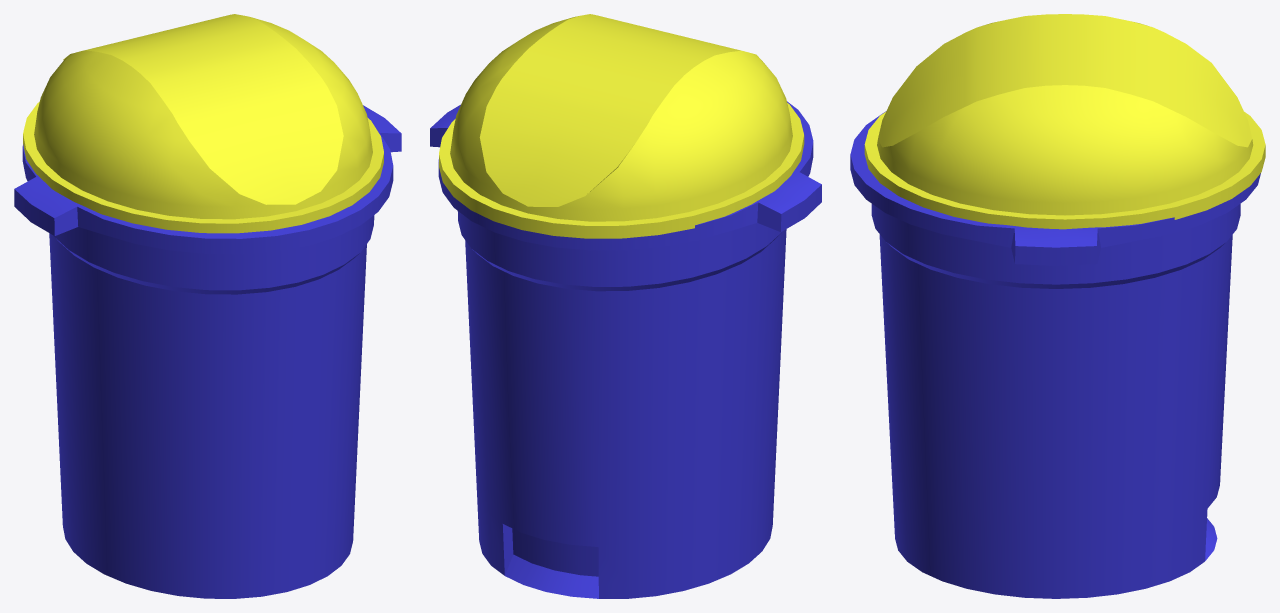
Rendered from Props_Garbage_02.fbx.
The picture shows the model from 3 angles, left to right: view 1: azimuth 30°, elevation 25°; view 2: azimuth 150°, elevation 25°; view 3: azimuth 270°, elevation 25°; orthographic projection.
Parts seen in each view (by area): view 1: Props_Garbage_02; view 2: Props_Garbage_02; view 3: Props_Garbage_02.
Part boxes in pixels (x1,y1,x2,y2): Props_Garbage_02: (14,14,401,598); Props_Garbage_02: (430,14,821,598); Props_Garbage_02: (850,14,1265,598).
Bounding box in the file's own units: 100 × 130 × 100.
